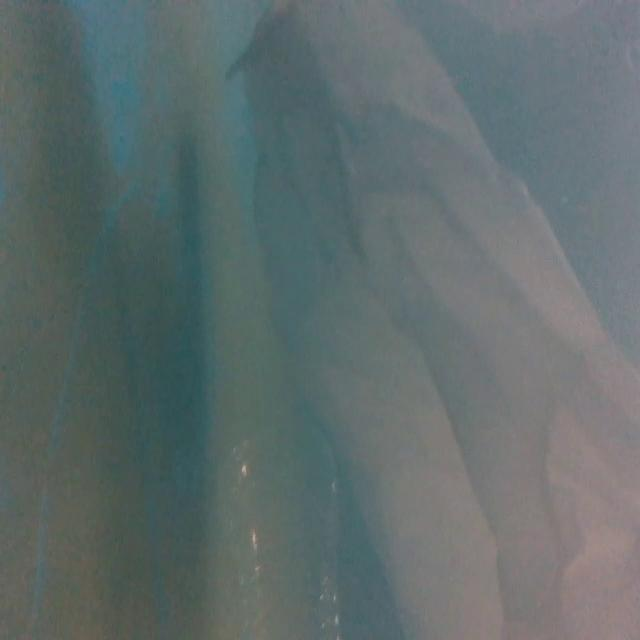plastic bags: (237, 0, 640, 640)
plastic bottle: (216, 399, 346, 640)
